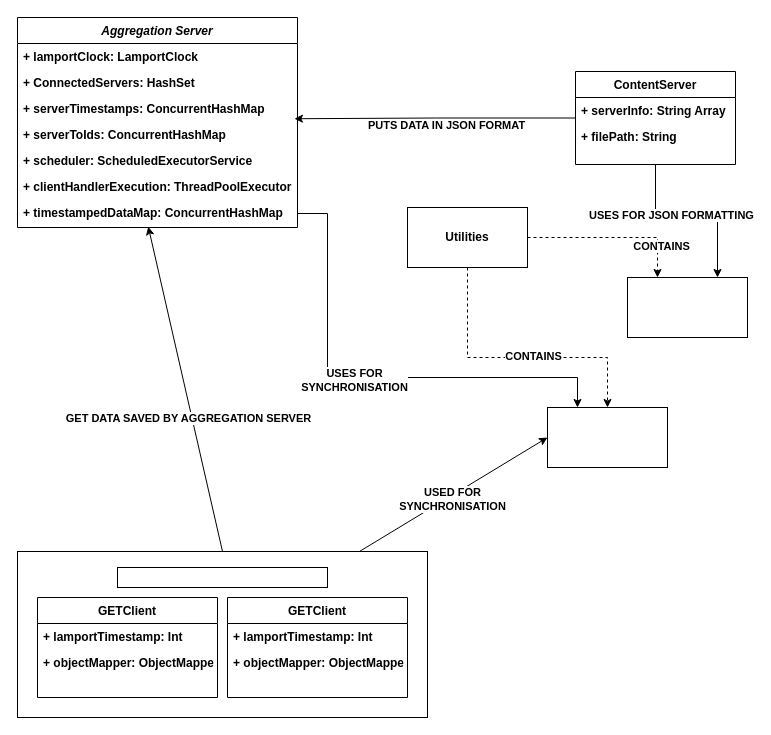
Image size: 771x735. Some labels were removed from this diagram. The shapes that lost their labels are listed below. From the top down, each one's box as (x1, y1, x2, y2) in pixels, then its label:
(626, 276, 748, 338): jsonFormatter
(546, 406, 668, 468): LamportClock
(116, 566, 328, 588): MULTIPLE CLIENTS
